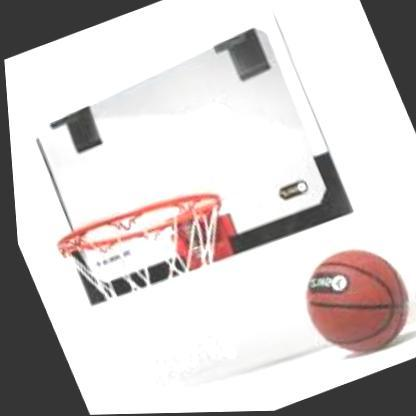basketball: (284, 236, 416, 368)
rim: (46, 177, 275, 394)
